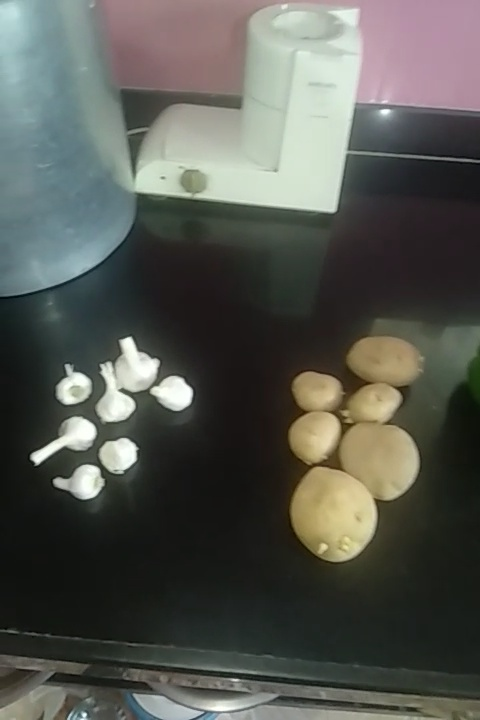garlic: (90, 359, 143, 429), (50, 455, 114, 502), (111, 332, 160, 389), (30, 419, 96, 461), (56, 365, 92, 419), (153, 377, 198, 418), (98, 442, 137, 469)
potato: (299, 466, 371, 567), (343, 416, 424, 503), (347, 338, 424, 388), (282, 407, 342, 467), (288, 371, 346, 416), (348, 386, 405, 420)
